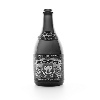beer: (31, 7, 68, 87)
